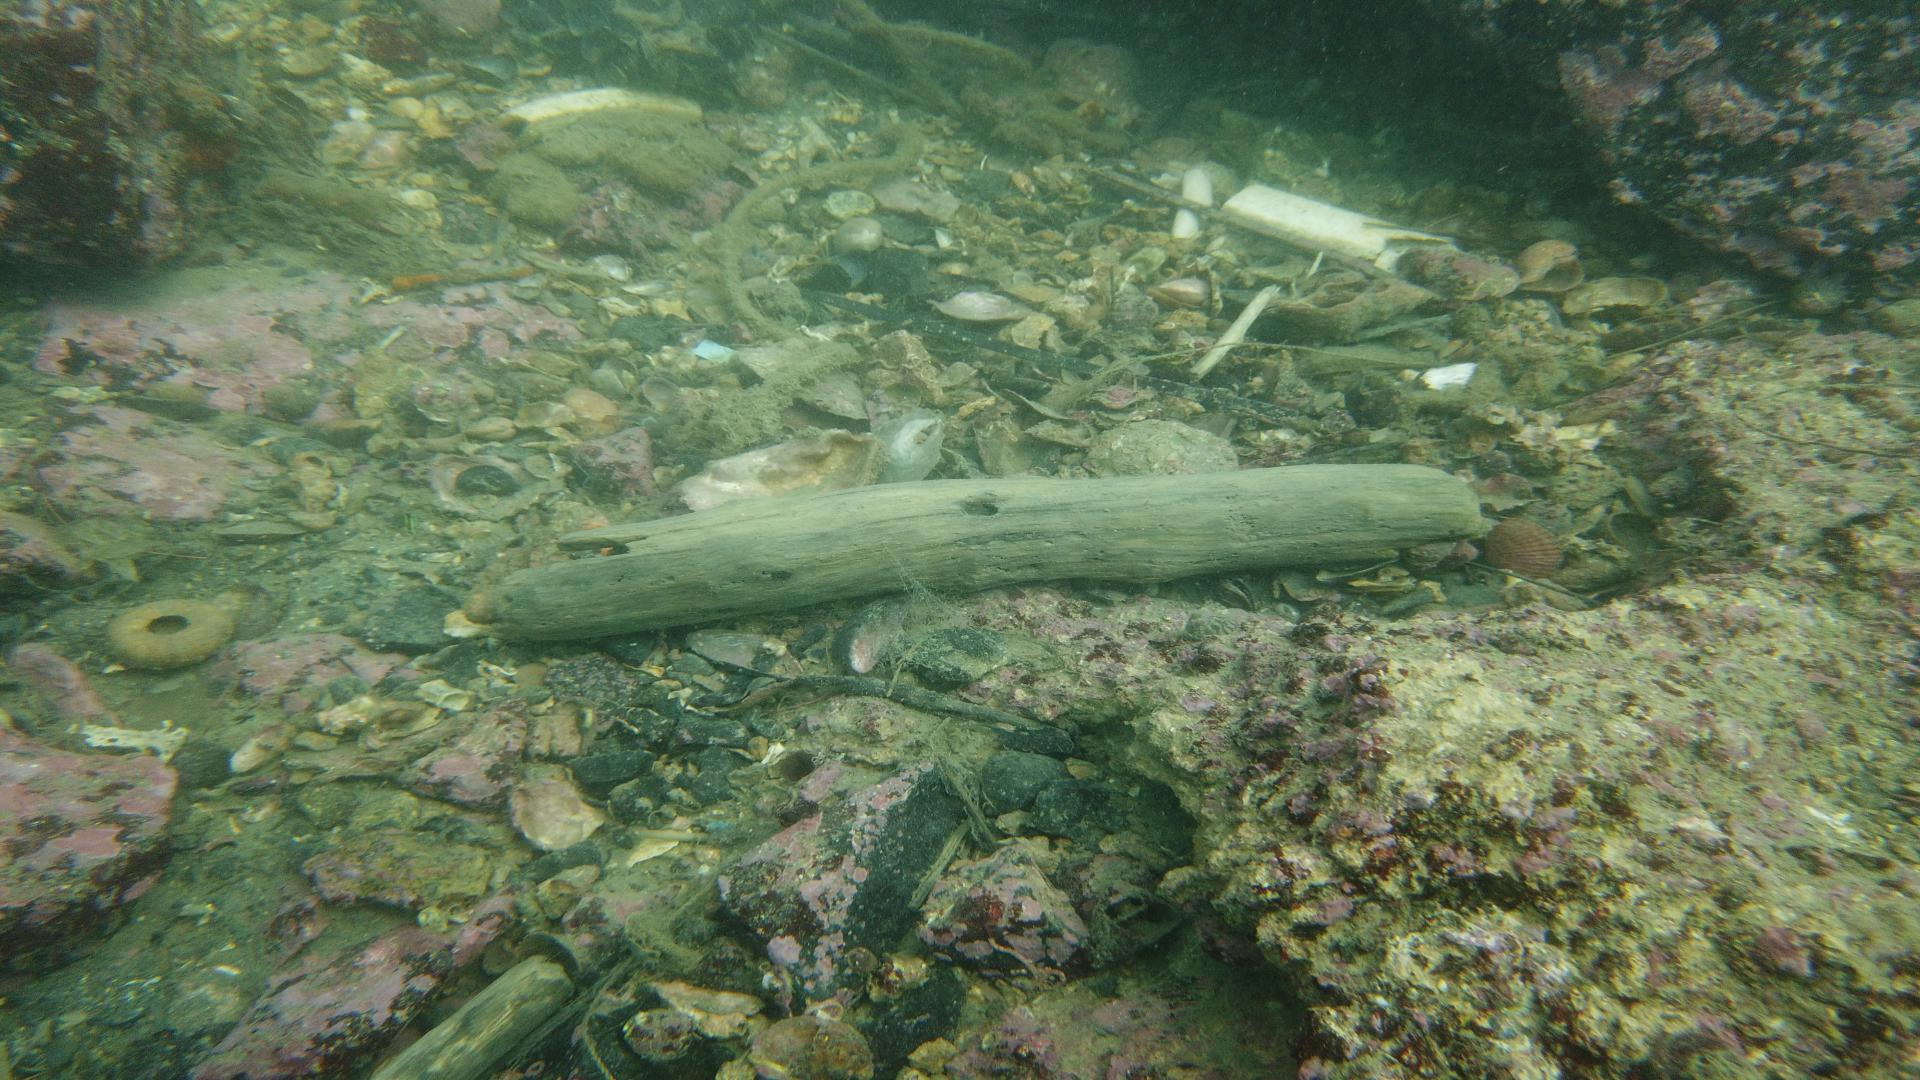rope: (715, 123, 920, 340), (578, 945, 636, 1080)
wood: (497, 462, 1478, 644), (368, 951, 575, 1080)
